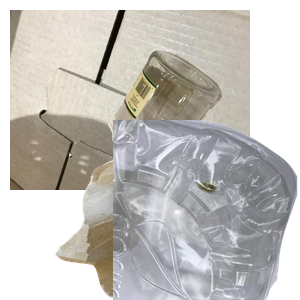cardboard: (10, 10, 250, 190)
glass: (110, 46, 300, 205)
plastic: (113, 120, 300, 300)
trash: (53, 121, 239, 300)
